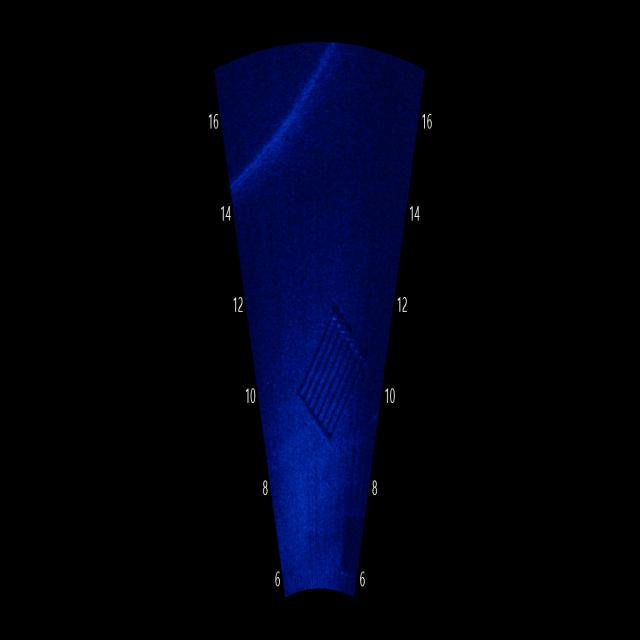square: (286, 302, 370, 446)
